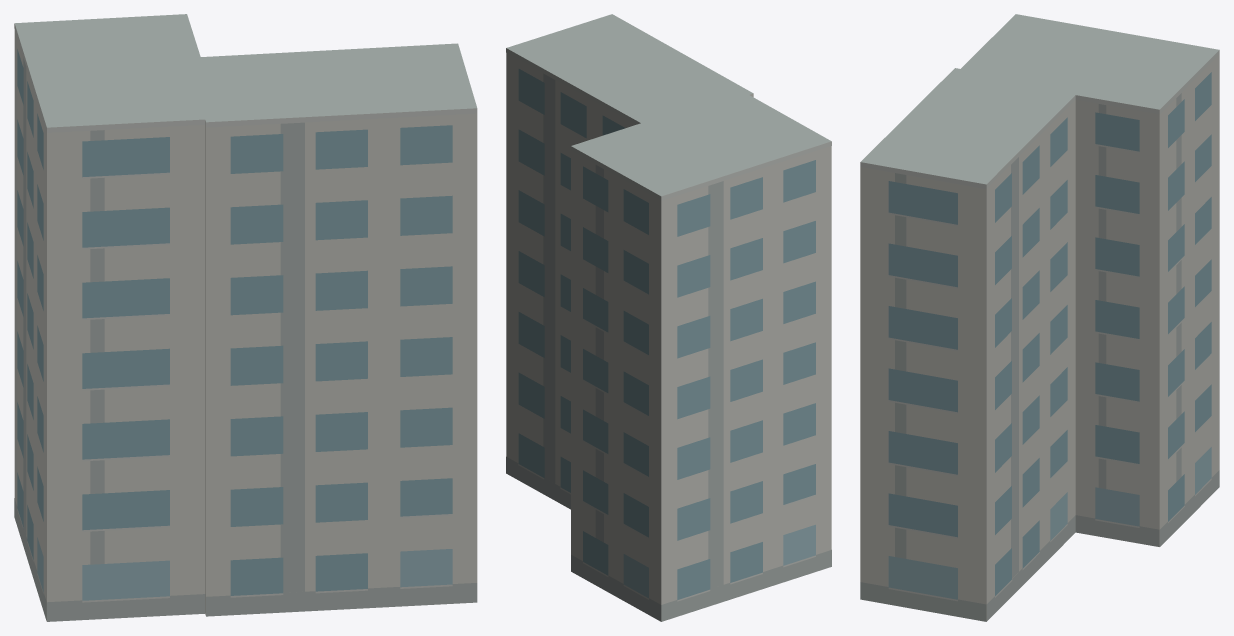
File: survey-upis-32634798.glb
3 views of the same model, side by side, from view 1: azimuth 30°, elevation 25°; view 2: azimuth 150°, elevation 25°; view 3: azimuth 270°, elevation 25° (orthographic). The views are drawn at different scales.
Visible parts, largest first — view 1: survey-upis-32634798.tmp; view 2: survey-upis-32634798.tmp; view 3: survey-upis-32634798.tmp.
Part boxes in pixels (left/top/right/bottom): survey-upis-32634798.tmp: left=14, top=14, right=477, bottom=621; survey-upis-32634798.tmp: left=506, top=14, right=831, bottom=621; survey-upis-32634798.tmp: left=860, top=14, right=1219, bottom=621.
Bounding box in the file's own units: 18.56 × 22.2 × 16.53.
